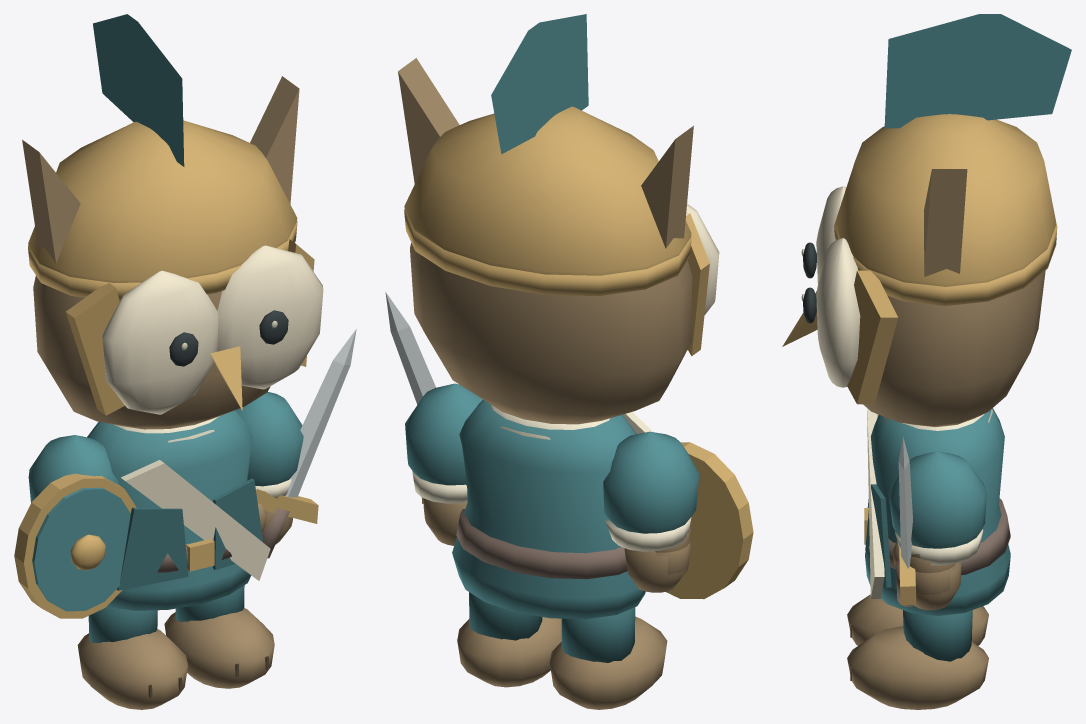
The model's file is warrior.glb.
3 renders of one model, left to right at view 1: azimuth 30°, elevation 25°; view 2: azimuth 150°, elevation 25°; view 3: azimuth 270°, elevation 25°, orthographic. The views are drawn at different scales.
Parts seen in each view (by area): view 1: Regional helmet, Short folded tunic, Owl face disk, Owl face disk.001, Regional shield face, Animal cheek head, Greek crest, Soft animal paw, Soft animal paw.001, Cream shoulder sash, Coat fold, Puff sleeve.001 (+18 smaller); view 2: Regional helmet, Animal cheek head, Short folded tunic, Greek crest, Puff sleeve, Shield gold rim, Helmet brow band, Soft animal paw, Puff sleeve.001, Soft animal paw.001, Broad leather belt, Owl feather tuft.001 (+11 smaller); view 3: Regional helmet, Animal cheek head, Greek crest, Short folded tunic, Soft animal paw.001, Puff sleeve.001, Owl face disk.001, Corinthian cheek.001, Owl feather tuft.001, Helmet brow band, Stubby trouser.001, Soft animal paw (+10 smaller).
Boxes of the visible parts, x1,y1,x2,y2 form: Regional helmet: (28,120,297,282); Short folded tunic: (87,410,253,610); Owl face disk: (102,270,218,414); Owl face disk.001: (217,245,323,389); Regional shield face: (32,487,130,611); Animal cheek head: (33,276,270,429); Greek crest: (93,14,184,166); Soft animal paw: (77,629,187,709); Soft animal paw.001: (164,607,274,688); Cream shoulder sash: (121,460,270,580); Coat fold: (116,507,188,590); Puff sleeve.001: (236,392,303,486); Regional helmet: (404,106,691,275); Animal cheek head: (410,243,692,424); Short folded tunic: (452,399,645,619); Greek crest: (491,14,588,154); Puff sleeve: (603,431,698,533); Shield gold rim: (666,442,753,599); Helmet brow band: (404,209,691,295); Soft animal paw: (549,616,667,709); Puff sleeve.001: (405,383,482,485); Soft animal paw.001: (457,617,561,687); Broad leather belt: (456,509,627,579); Owl feather tuft.001: (398,58,459,183); Regional helmet: (835,114,1055,286); Animal cheek head: (863,270,1045,427); Greek crest: (884,14,1071,128); Short folded tunic: (865,408,1010,615); Soft animal paw.001: (847,626,988,709); Puff sleeve.001: (888,451,986,548); Owl face disk.001: (816,238,860,387); Corinthian cheek.001: (847,270,898,404); Owl feather tuft.001: (924,169,967,276); Helmet brow band: (834,222,1057,305); Stubby trouser.001: (903,610,972,661); Soft animal paw: (847,594,988,645).
Bounding box in the file's own units: 1.02 × 1.86 × 0.735.
